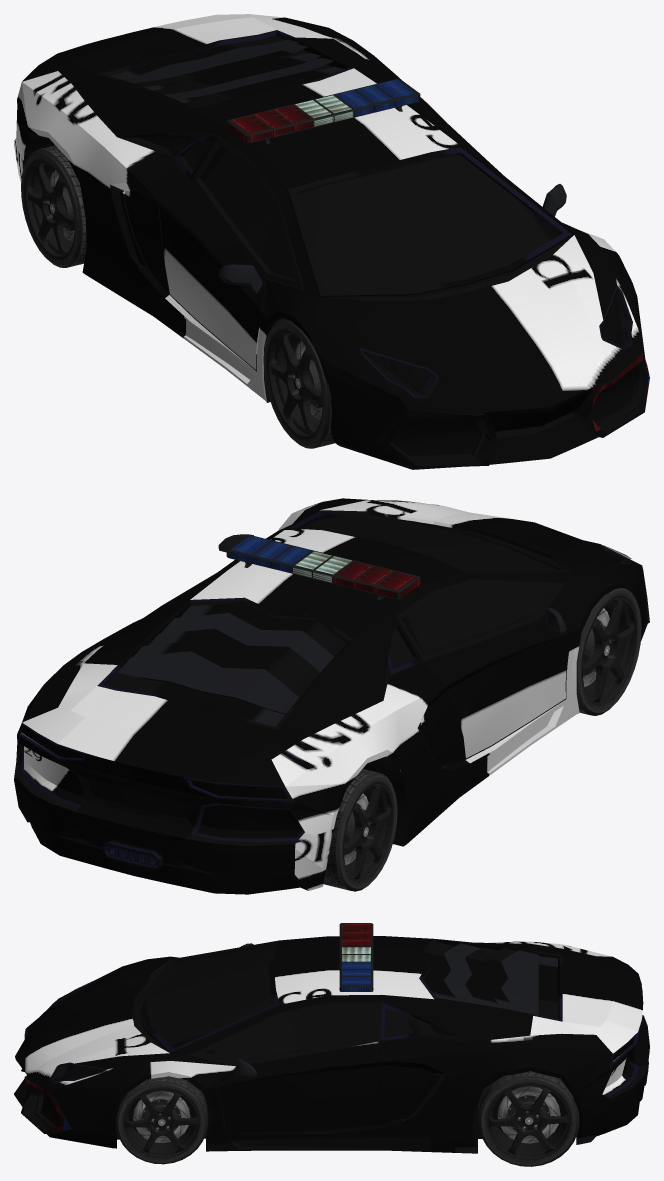
Rendered from PoliceCar3.FBX.
3 renders of one model, top to bottom at view 1: azimuth 30°, elevation 25°; view 2: azimuth 150°, elevation 25°; view 3: azimuth 270°, elevation 25°, orthographic. The views are drawn at different scales.
Visible parts, largest first — view 1: Body, FR, BR; view 2: Body, BR, FR; view 3: Body, BL, FL.
Part boxes in pixels (x1,y1,x2,y2): Body: (14, 14, 649, 469); FR: (263, 318, 335, 448); BR: (21, 145, 86, 267); Body: (14, 498, 649, 894); BR: (323, 769, 397, 891); FR: (576, 588, 641, 715); Body: (14, 923, 649, 1153); BL: (478, 1071, 579, 1166); FL: (116, 1076, 207, 1164).
Size of the model in its own units: 19.85 by 11.31 by 42.08.
